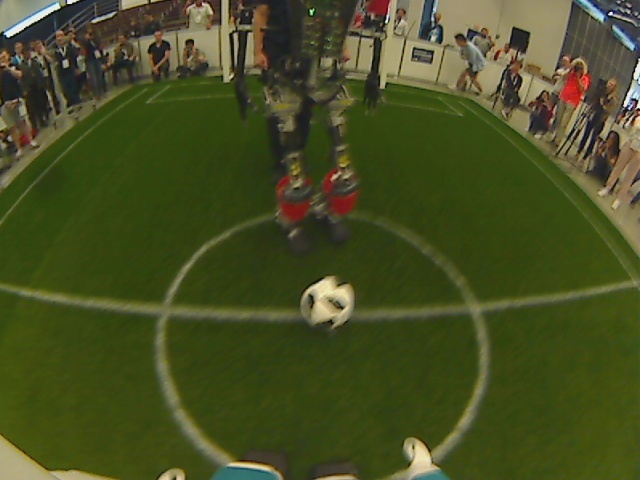ball: (298, 274, 357, 333)
